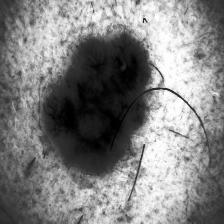Benign Marking or Mole: (52, 42, 148, 159)
